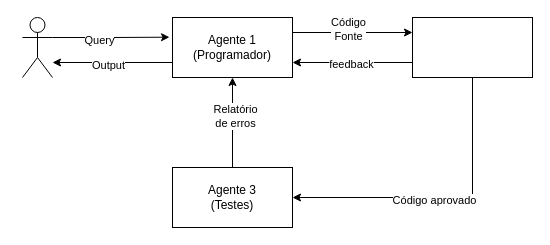
Some shapes in this 550 by 245 pixel diagram are drawn without their labels. Each missing label, with the centre of its shape:
"Agente 2 (QA)" belongs at pixel 472 47.
"Usuário" belongs at pixel 37 47.
